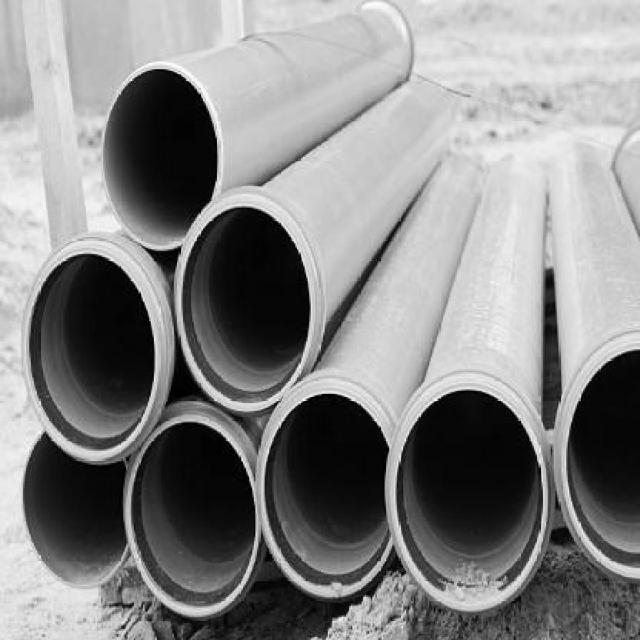pipe: (385, 382, 550, 615), (22, 237, 164, 466), (174, 194, 321, 414), (259, 390, 394, 599), (128, 417, 262, 618), (100, 65, 221, 250), (553, 334, 640, 583), (22, 429, 131, 586)
